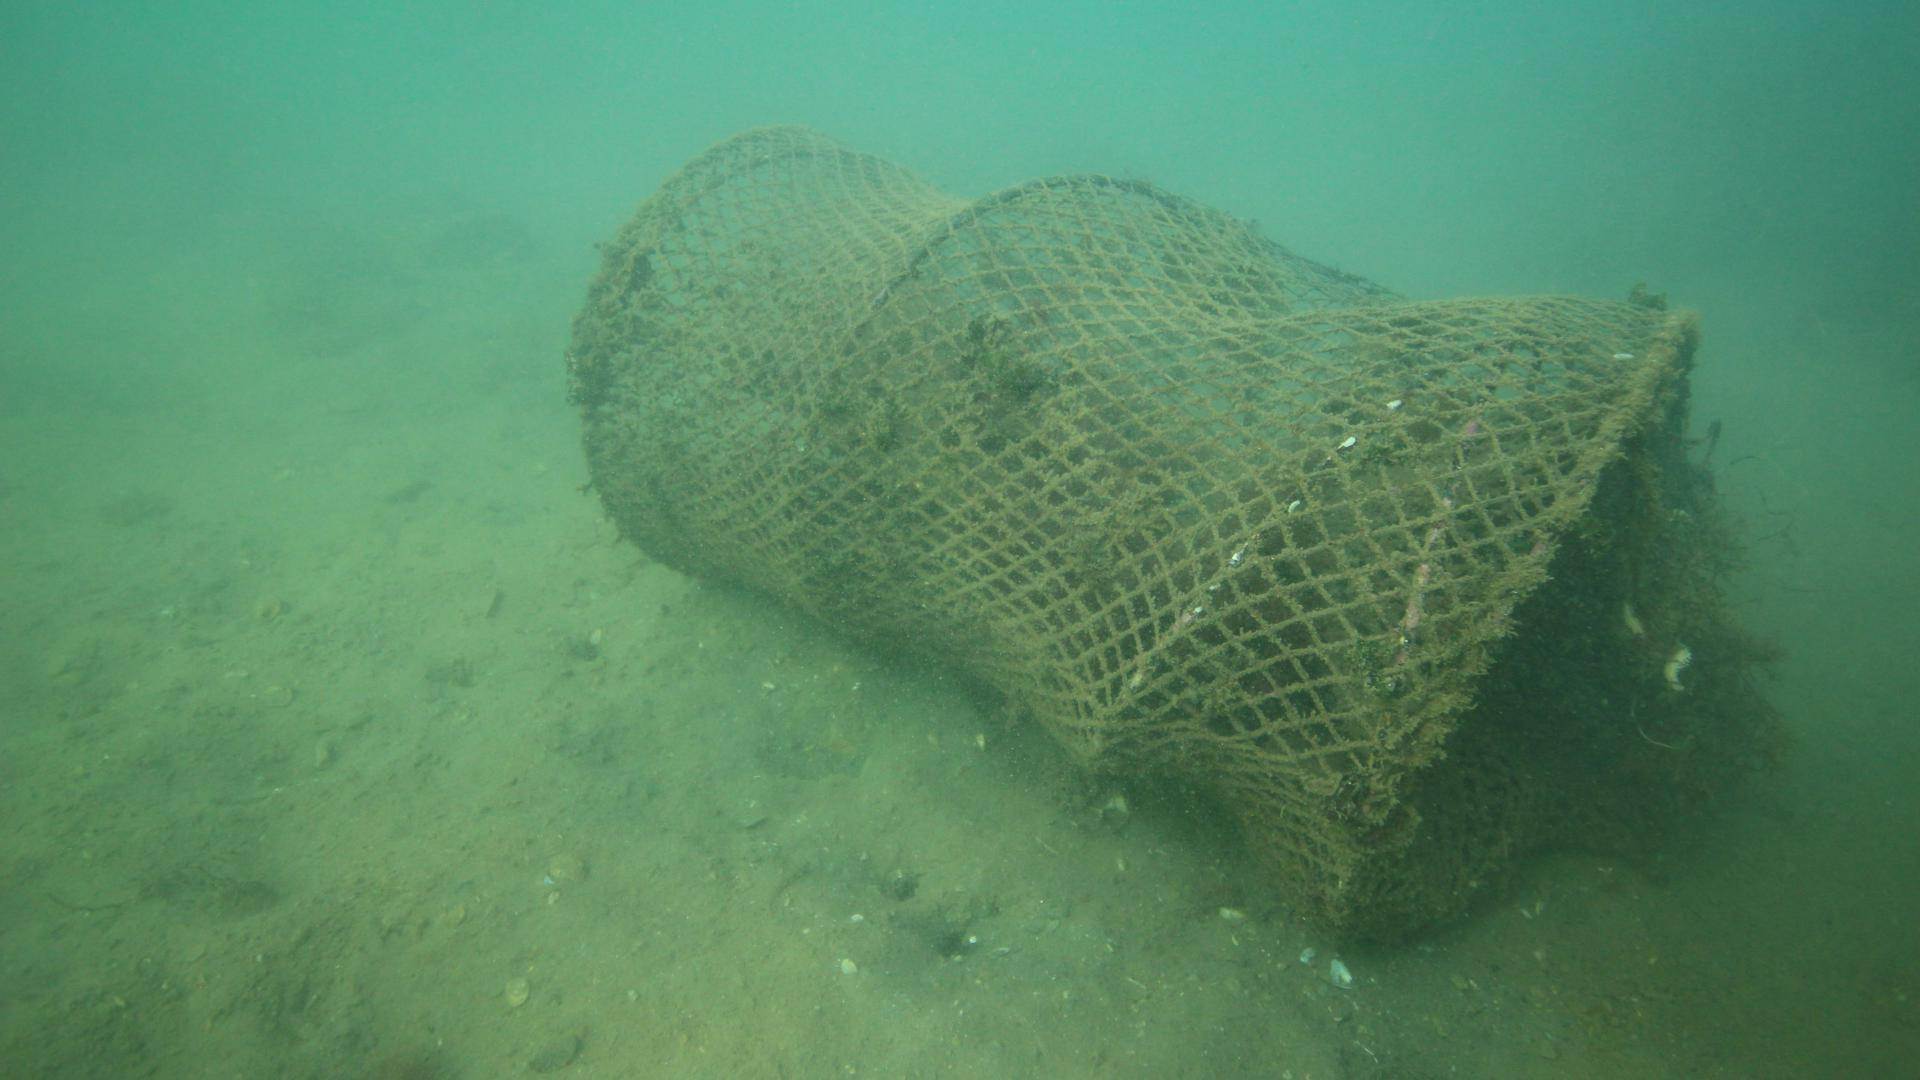spring fish trap: (575, 124, 1712, 955)
